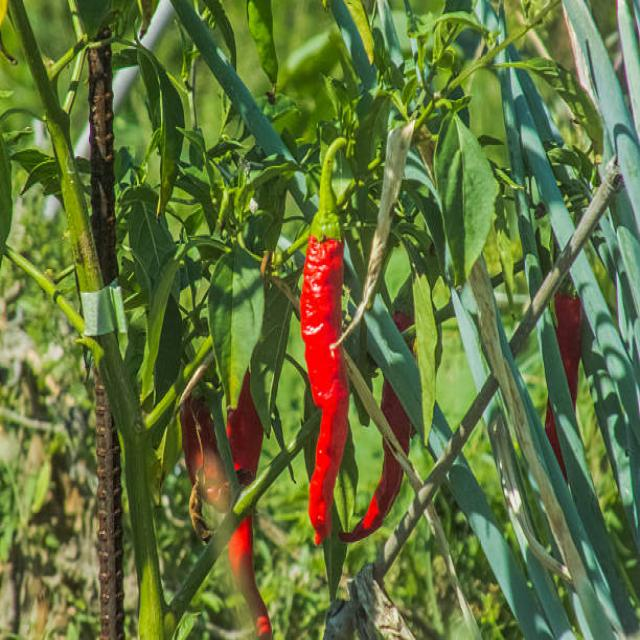Ripe: (300, 233, 348, 542), (341, 387, 413, 540)
